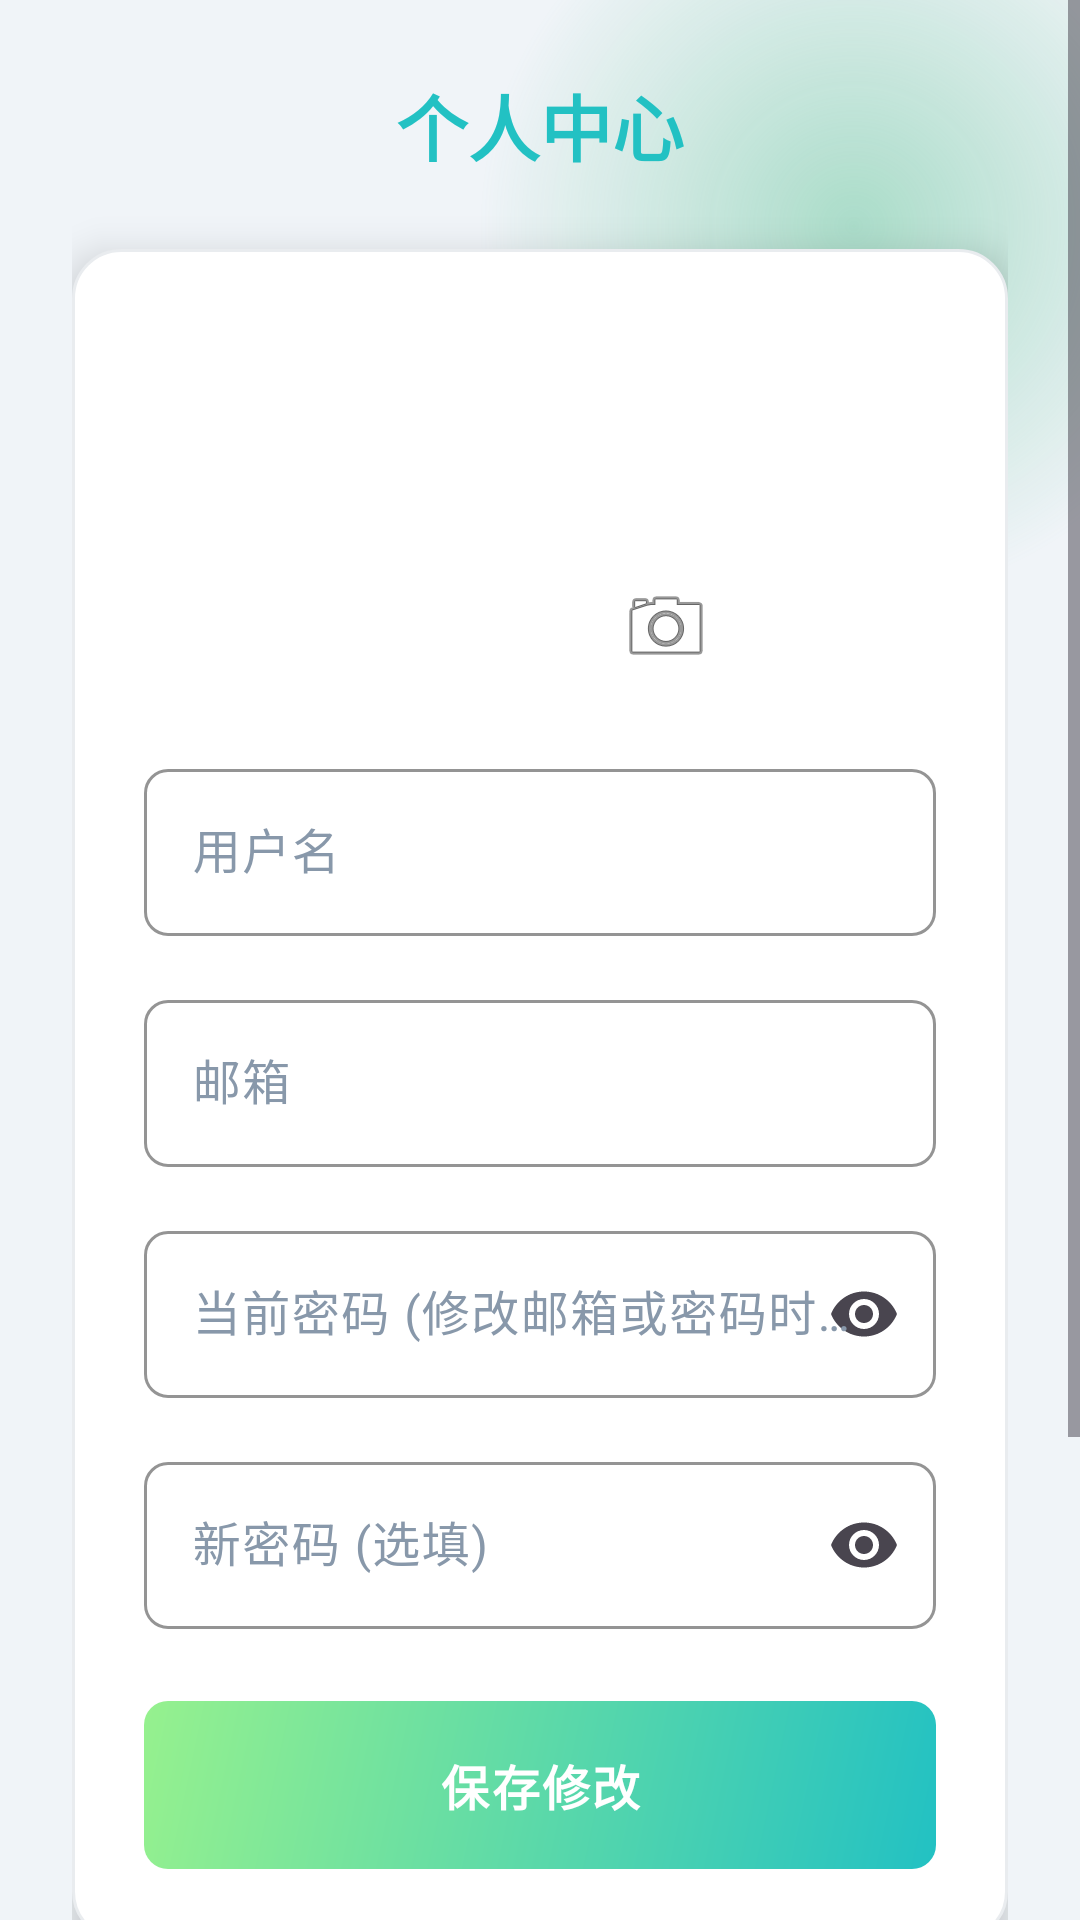

Screen size 1080 × 1920. Icon name, then its box in pixels as (x1, y1, x2, y2):
camera: (629, 596, 703, 655)
